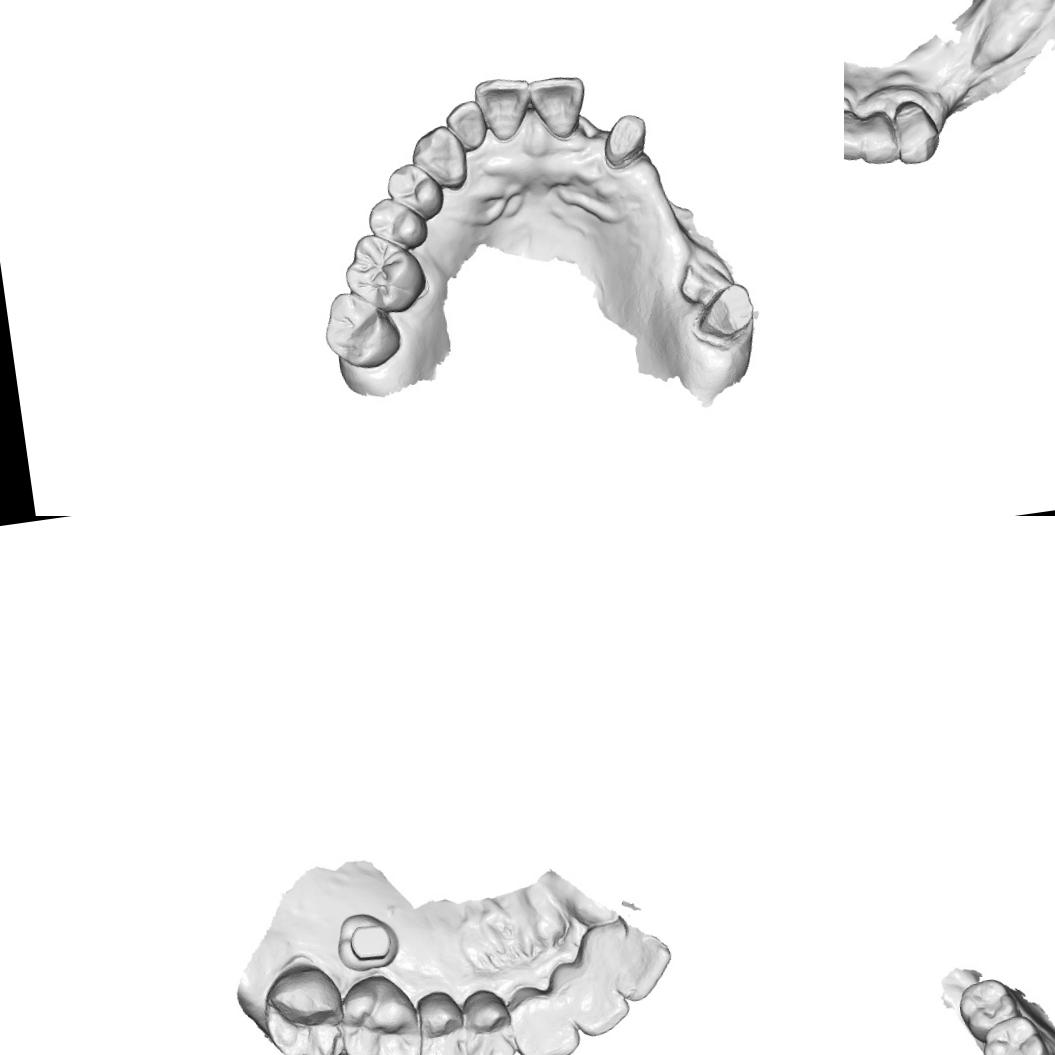canine: (508, 980, 582, 1055), (408, 122, 470, 193), (888, 95, 944, 168)
crown: (687, 278, 759, 348), (596, 109, 654, 174)
incisor: (592, 926, 677, 1008), (558, 958, 636, 1042), (525, 70, 593, 146), (470, 74, 536, 146), (855, 107, 901, 168), (442, 98, 488, 154), (844, 106, 869, 164)
molar: (249, 961, 353, 1055), (338, 226, 430, 320), (316, 284, 404, 375), (331, 970, 424, 1055), (956, 975, 1022, 1045), (978, 1012, 1053, 1055)
premolar: (407, 988, 471, 1055), (364, 192, 430, 254), (460, 984, 517, 1055), (383, 160, 446, 223)
